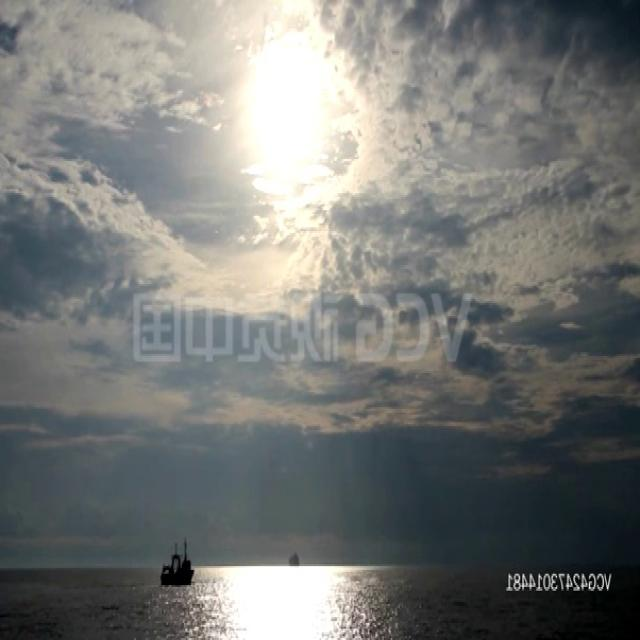fishing boat: (162, 537, 198, 589)
